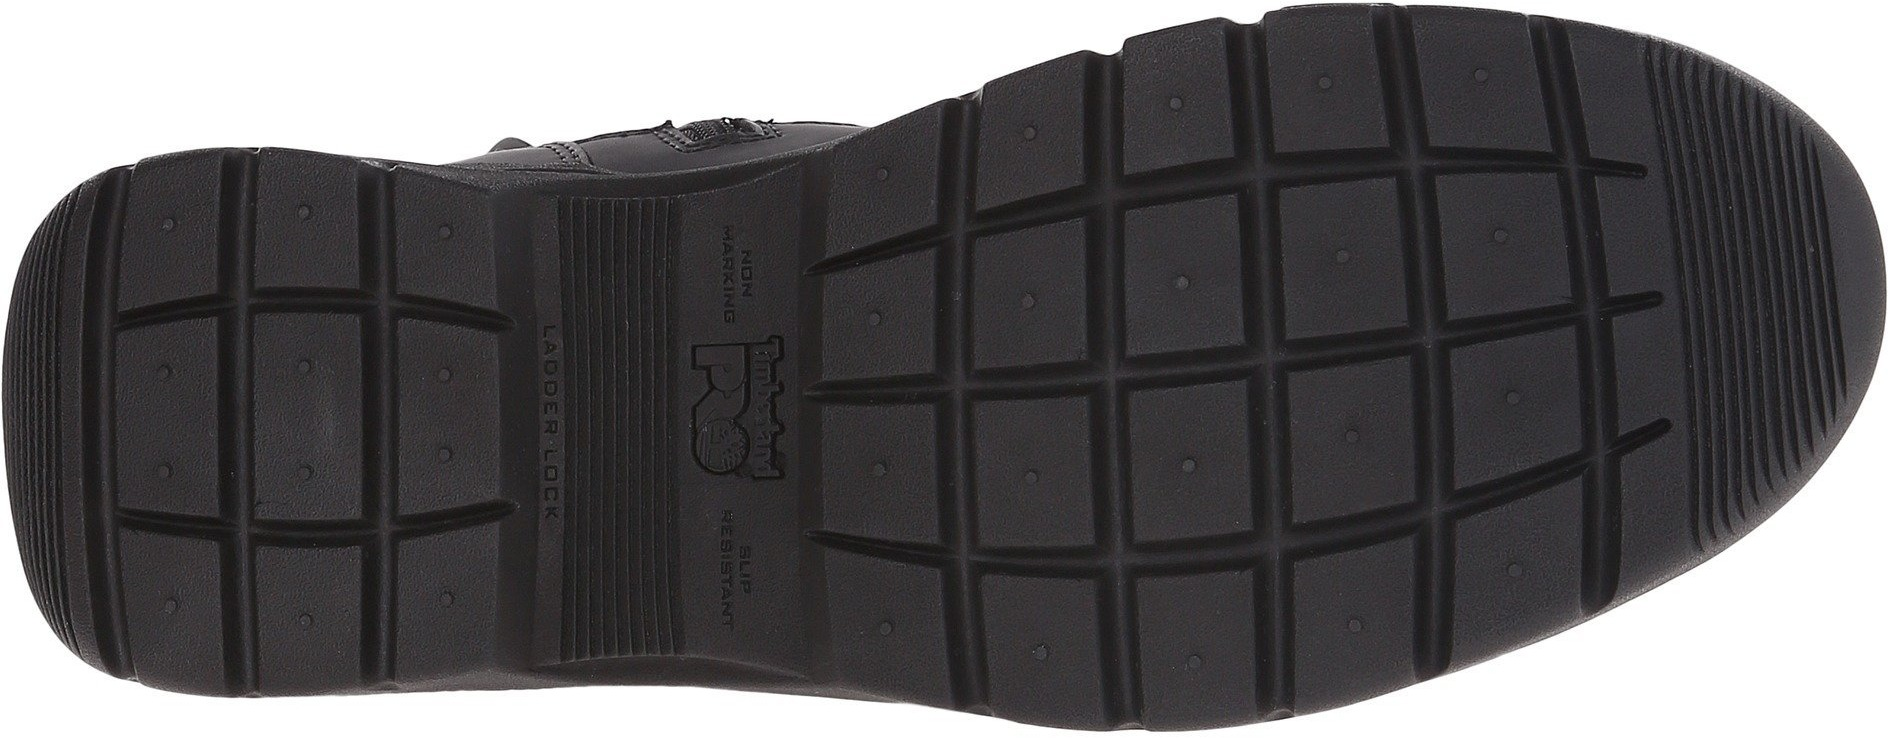other: (1673, 139, 1838, 336), (558, 204, 704, 338), (554, 521, 705, 648), (1689, 341, 1820, 473), (7, 330, 75, 418)
quad: (1166, 40, 1559, 418), (147, 176, 497, 535), (815, 153, 1141, 437), (815, 447, 1093, 687), (1103, 452, 1378, 689)
text: (674, 330, 814, 473), (711, 506, 783, 578)
